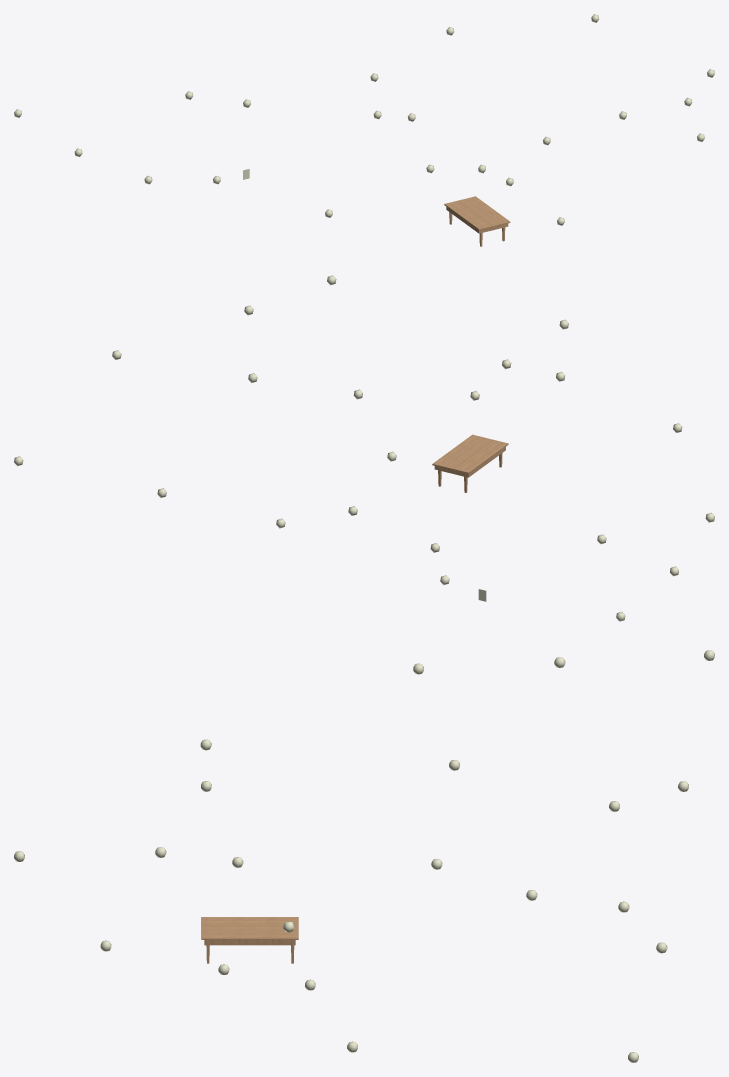
3 renders of one model, top to bottom at view 1: azimuth 30°, elevation 25°; view 2: azimuth 150°, elevation 25°; view 3: azimuth 270°, elevation 25°, orthographic. The views are drawn at different scales.
Parts seen in each view (by area): view 1: Group005; view 2: Group005; view 3: Group005.
Part boxes in pixels (<box>): Group005: <box>444,196,510,246</box>; Group005: <box>432,434,508,492</box>; Group005: <box>201,917,298,963</box>.
Bounding box in the file's own units: 861 × 135 × 654.
